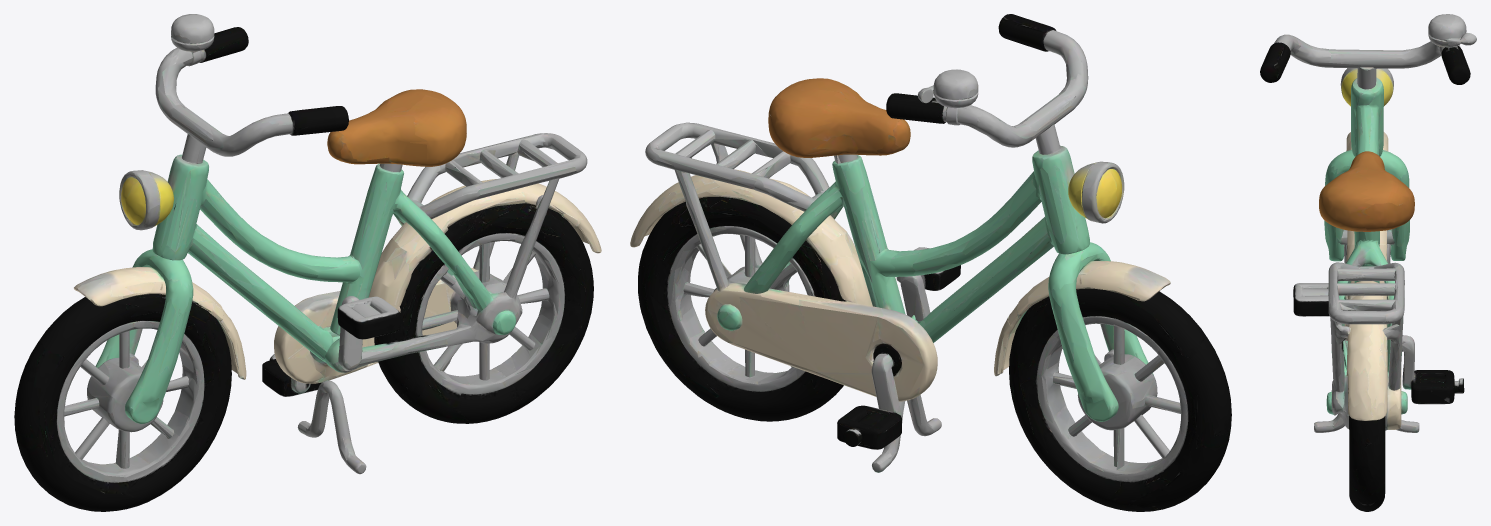
Rendered from fiets.glb.
3 views of the same model, side by side, from view 1: azimuth 30°, elevation 25°; view 2: azimuth 150°, elevation 25°; view 3: azimuth 270°, elevation 25° (orthographic). The views are drawn at different scales.
Parts seen in each view (by area): view 1: Mesh_0; view 2: Mesh_0; view 3: Mesh_0.
Boxes of the visible parts, x1,y1,x2,y2 form: Mesh_0: (14,14,601,511); Mesh_0: (630,14,1231,511); Mesh_0: (1260,14,1476,511).
Bounding box in the file's own units: 1.9 × 1.34 × 0.6985.
Materials: 1 (1 with a texture image).
